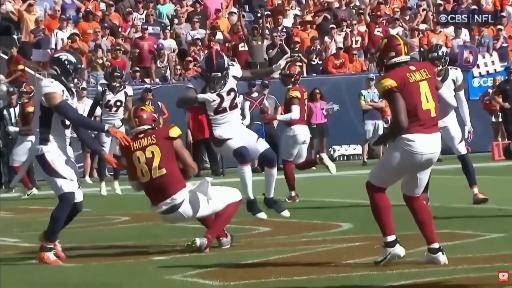Helmet: (376, 35, 410, 72), (201, 49, 229, 92), (50, 51, 83, 86), (130, 105, 161, 134), (426, 44, 449, 71), (280, 63, 303, 86), (107, 66, 124, 87), (20, 83, 34, 101)
Jersey: (120, 125, 185, 205), (377, 62, 438, 134), (32, 79, 77, 156), (205, 62, 242, 129), (97, 81, 133, 123), (284, 86, 307, 126), (439, 67, 463, 99), (19, 100, 34, 127)
Player: (31, 52, 130, 264), (366, 35, 456, 264), (177, 49, 289, 218), (120, 106, 241, 251), (262, 63, 335, 201), (427, 44, 488, 204), (10, 84, 37, 198), (88, 66, 133, 132)
